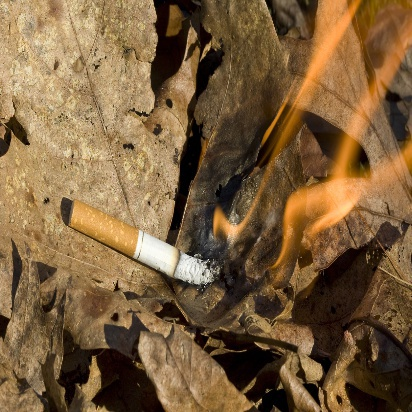cigarette: (61, 196, 219, 290)
